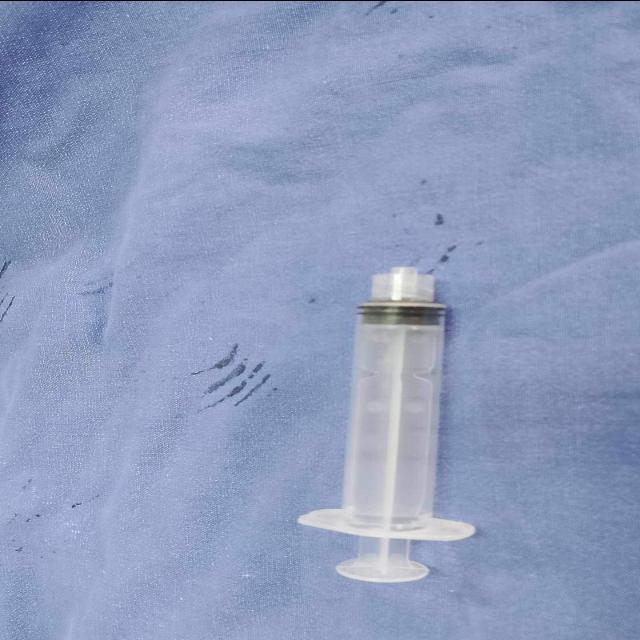General: (3, 2, 635, 636)
Sharps: (296, 264, 476, 582)
